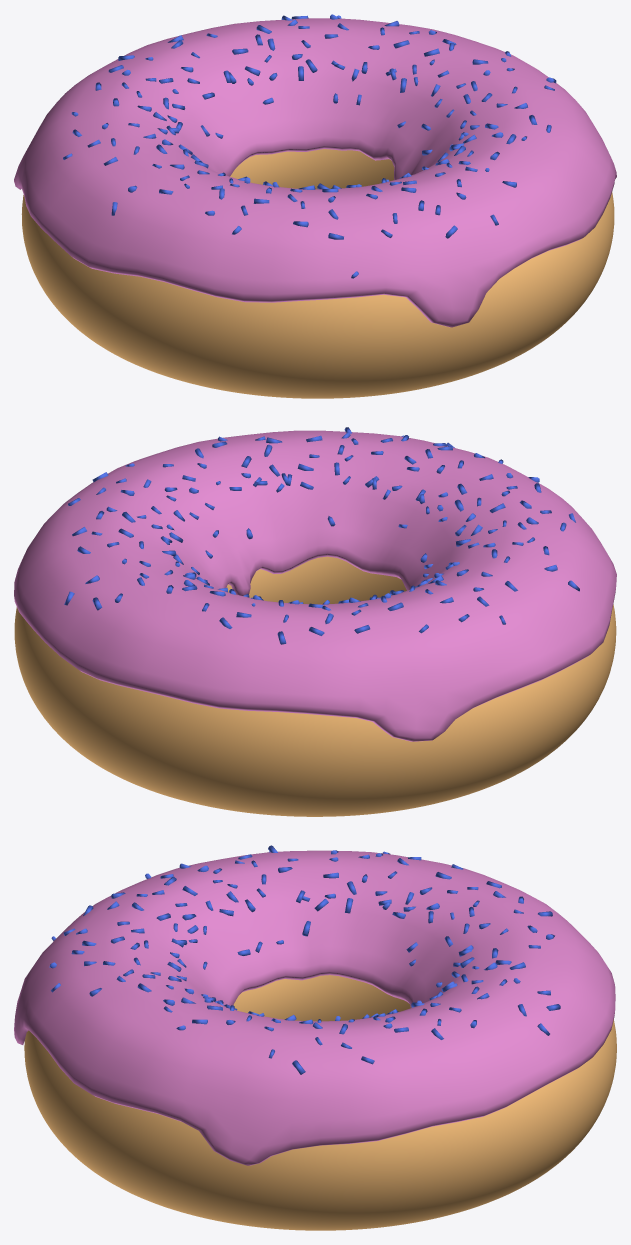
Rendered from donut.fbx.
The picture shows the model from 3 angles, top to bottom: view 1: azimuth 30°, elevation 25°; view 2: azimuth 150°, elevation 25°; view 3: azimuth 270°, elevation 25°; orthographic projection.
Visible parts, largest first — view 1: Donut.001, Donut; view 2: Donut.001, Donut; view 3: Donut.001, Donut.
Boxes of the visible parts, x1,y1,x2,y2 form: Donut.001: (14,18,616,327); Donut: (21,149,614,398); Donut.001: (14,430,616,741); Donut: (14,556,616,816); Donut.001: (14,850,615,1165); Donut: (24,975,616,1230).
Bounding box in the file's own units: 14.54 × 5.28 × 14.65.
